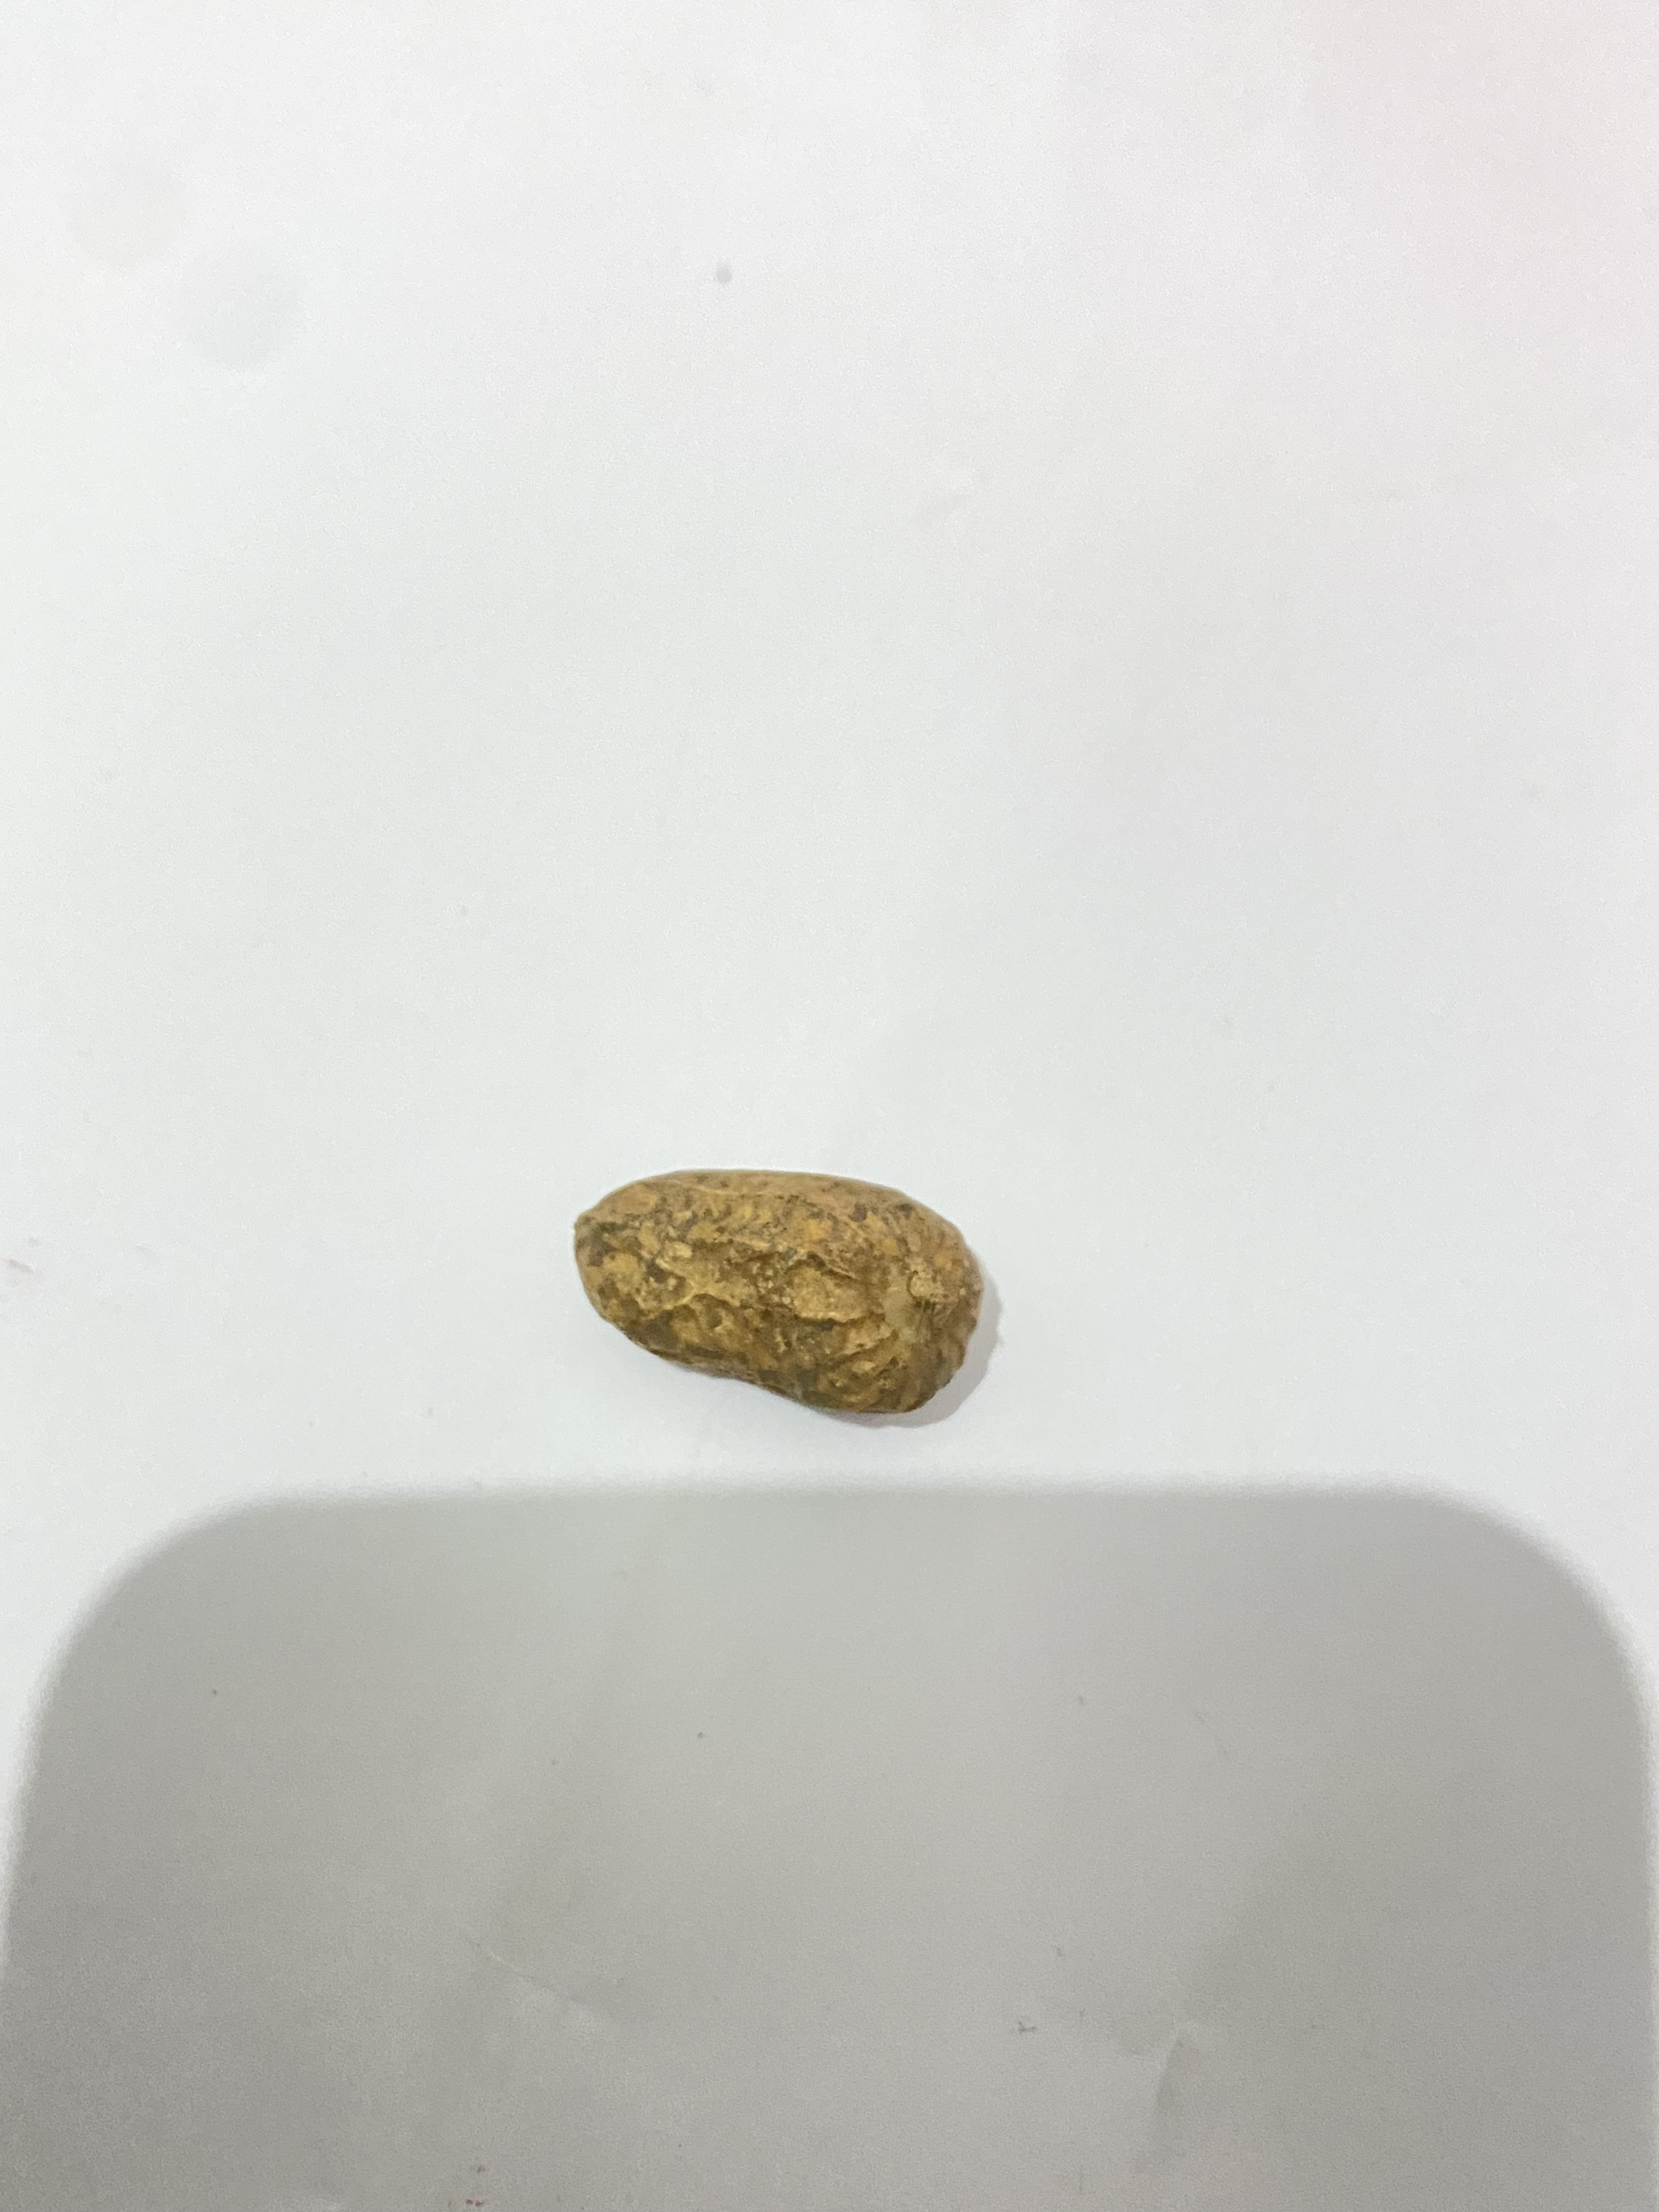kacang1: (544, 1109, 1030, 1474)
